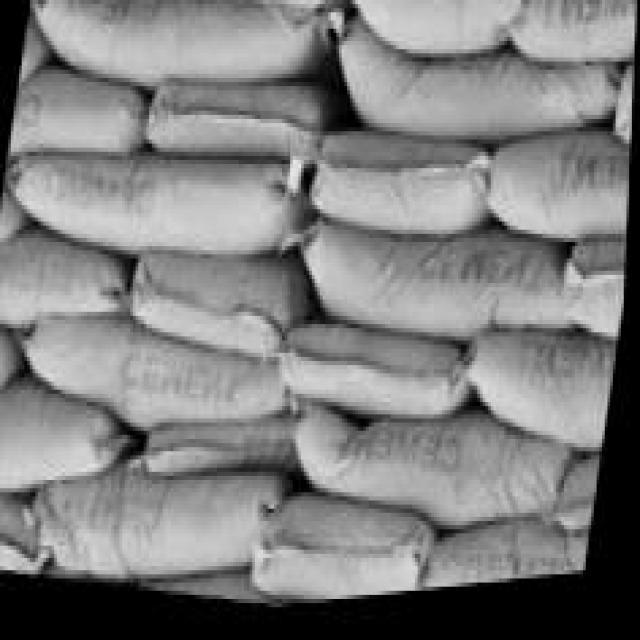gunny_bag: (342, 21, 616, 157), (303, 413, 572, 544), (302, 227, 573, 357), (6, 157, 305, 262), (32, 323, 293, 438), (35, 475, 289, 590), (29, 0, 329, 93), (130, 253, 309, 367), (313, 140, 488, 245), (260, 505, 431, 611), (292, 330, 471, 430), (472, 351, 619, 465), (150, 80, 322, 172), (492, 150, 632, 257), (0, 392, 122, 491), (350, 0, 529, 67), (0, 239, 124, 333), (7, 78, 142, 163), (432, 540, 593, 600), (513, 2, 637, 74), (149, 425, 297, 483), (571, 255, 629, 356), (0, 506, 46, 576), (611, 84, 635, 165), (211, 0, 342, 10), (0, 335, 19, 388)
